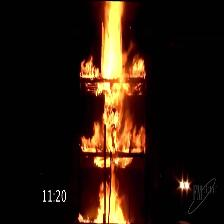fire: (91, 3, 135, 218)
